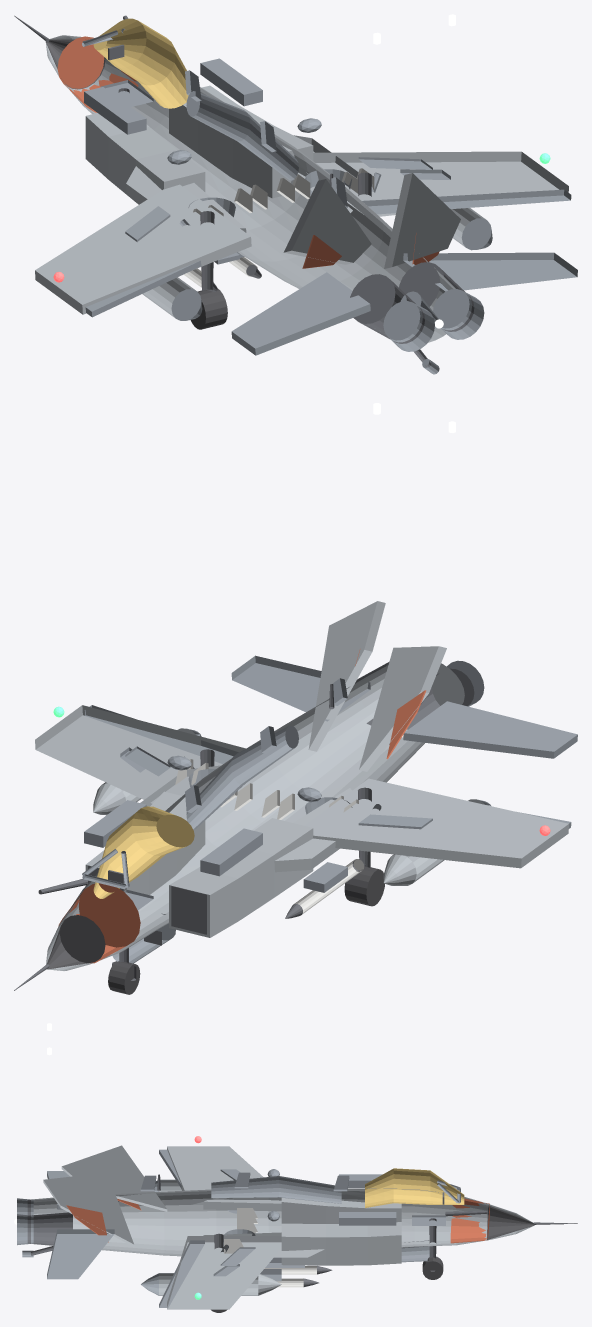
The model's file is swingwraith_swing_wing_strike_fighter.glb.
The picture shows the model from 3 angles, top to bottom: view 1: azimuth 30°, elevation 25°; view 2: azimuth 150°, elevation 25°; view 3: azimuth 270°, elevation 25°; orthographic projection. The views are drawn at different scales.
Parts seen in each view (by area): view 1: m_010, m_000, m_018, m_049, m_003, m_050, m_046, m_043, m_002, m_104, m_027, m_033 (+24 smaller); view 2: m_000, m_010, m_018, m_049, m_046, m_003, m_043, m_050, m_002, m_104, m_026, m_001 (+18 smaller); view 3: m_000, m_018, m_046, m_003, m_010, m_043, m_002, m_050, m_032, m_033, m_031, m_039 (+13 smaller).
Boxes of the visible parts, x1,y1,x2,y2 form: m_010: (35, 184, 251, 314); m_000: (46, 35, 455, 342); m_018: (306, 151, 568, 216); m_049: (231, 272, 370, 355); m_003: (93, 18, 188, 108); m_050: (403, 252, 577, 291); m_046: (384, 173, 460, 268); m_043: (283, 179, 371, 264); m_002: (186, 91, 298, 180); m_104: (57, 36, 138, 112); m_027: (108, 127, 176, 201); m_033: (233, 126, 313, 198); m_000: (46, 663, 464, 970); m_010: (304, 778, 568, 868); m_018: (35, 705, 245, 803); m_049: (403, 701, 577, 758); m_046: (308, 601, 385, 751); m_003: (93, 806, 194, 898); m_043: (359, 646, 446, 771); m_050: (231, 655, 370, 721); m_002: (186, 725, 298, 829); m_104: (58, 883, 140, 963); m_026: (169, 868, 238, 937); m_001: (47, 915, 105, 969); m_000: (33, 1188, 532, 1256); m_018: (167, 1236, 281, 1309); m_046: (43, 1172, 134, 1246); m_003: (365, 1168, 464, 1208); m_010: (167, 1146, 263, 1204); m_043: (61, 1145, 167, 1211); m_002: (211, 1176, 341, 1203); m_050: (47, 1229, 114, 1279); m_032: (326, 1224, 367, 1265); m_033: (281, 1223, 325, 1265); m_031: (367, 1222, 401, 1265); m_039: (27, 1212, 72, 1245).
Bounding box in the file's own units: 7.24 × 5.24 × 10.81.
